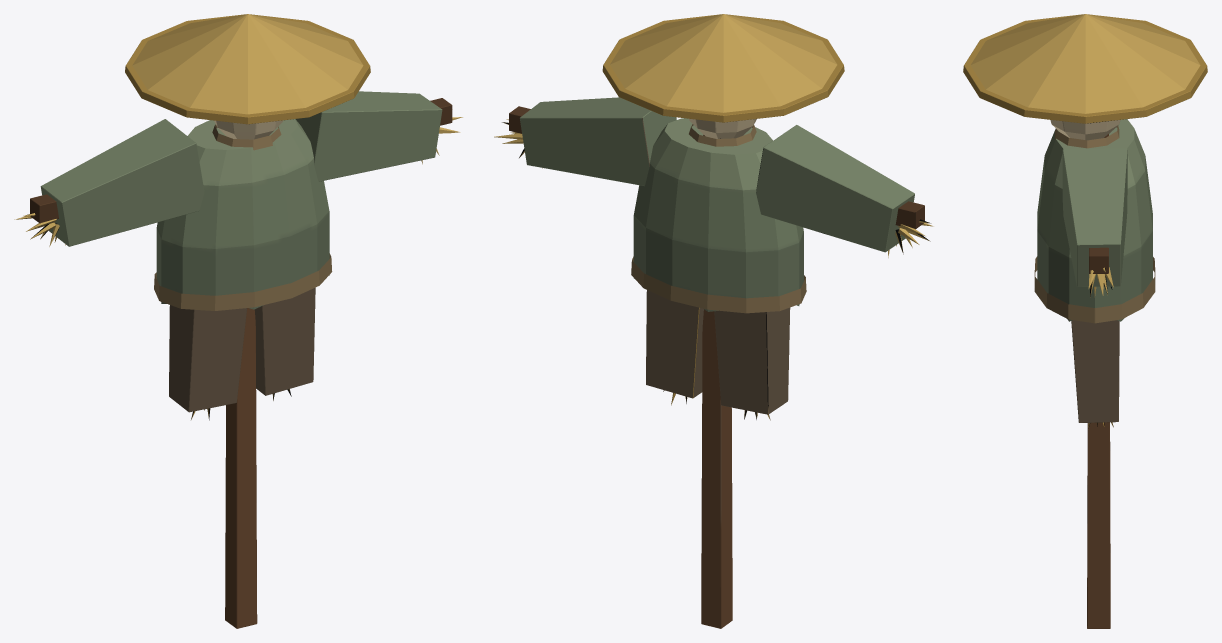
Rendered from ORS_Orangan.fbx.
The picture shows the model from 3 angles, left to right: view 1: azimuth 30°, elevation 25°; view 2: azimuth 150°, elevation 25°; view 3: azimuth 270°, elevation 25°; orthographic projection.
Visible parts, largest first — view 1: ORS_Orangan_A; view 2: ORS_Orangan_A; view 3: ORS_Orangan_A.
Boxes of the visible parts, x1,y1,x2,y2 form: ORS_Orangan_A: (14,14,462,628); ORS_Orangan_A: (494,14,933,628); ORS_Orangan_A: (963,14,1207,628).
Size of the model in its own units: 1.32 by 1.76 by 0.6398.
